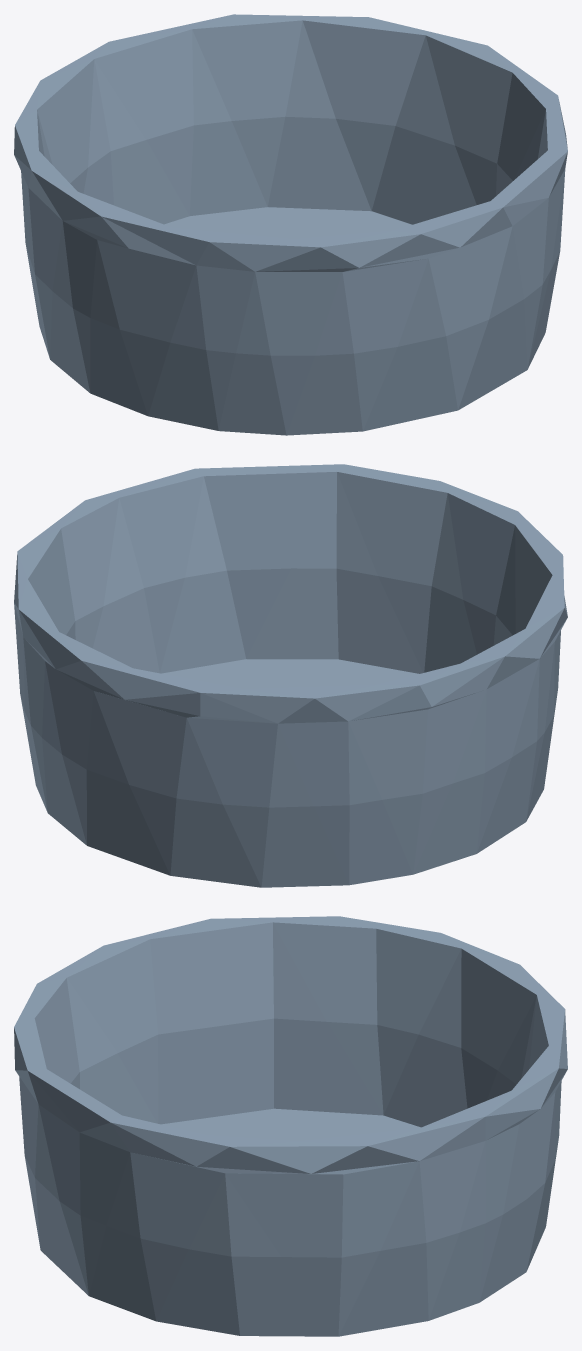
File: 20_bontamda.fbx
The picture shows the model from 3 angles, top to bottom: view 1: azimuth 30°, elevation 25°; view 2: azimuth 150°, elevation 25°; view 3: azimuth 270°, elevation 25°; orthographic projection.
Visible parts, largest first — view 1: bontamda; view 2: bontamda; view 3: bontamda.
Part boxes in pixels (x1,y1,x2,y2): bontamda: [14, 14, 567, 435]; bontamda: [14, 464, 567, 887]; bontamda: [14, 916, 567, 1336].
Bounding box in the file's own units: 210 × 83.27 × 210.
